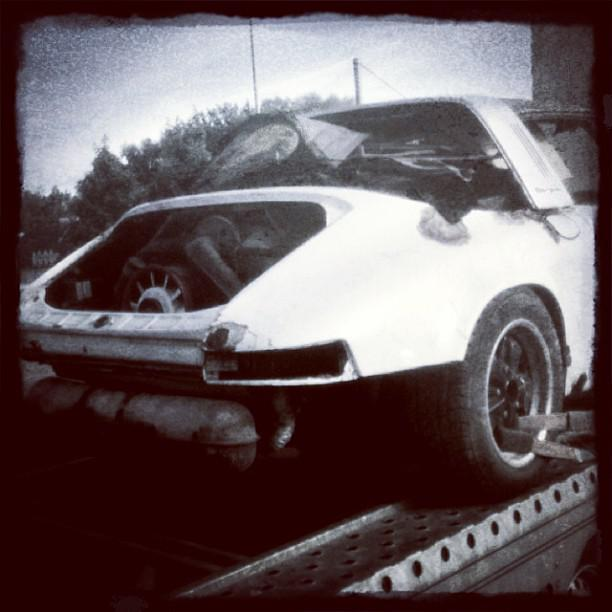Rear-windscreen-Damage: (197, 107, 519, 213)
